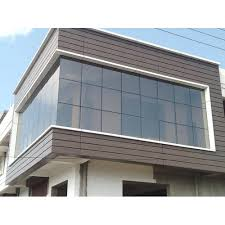glass_panel: (57, 103, 79, 127), (59, 79, 80, 104), (60, 59, 81, 81), (80, 107, 100, 130), (81, 84, 100, 108), (102, 88, 120, 112), (82, 64, 101, 85), (102, 111, 120, 133), (141, 96, 158, 119), (122, 115, 140, 136), (122, 93, 139, 115), (141, 118, 158, 139), (103, 68, 120, 89), (122, 73, 139, 93), (175, 104, 191, 125), (158, 100, 174, 121), (140, 77, 156, 97), (160, 121, 175, 142), (193, 127, 208, 147), (192, 107, 206, 128), (158, 81, 173, 100), (177, 125, 192, 144), (174, 85, 189, 103), (190, 89, 204, 106)
